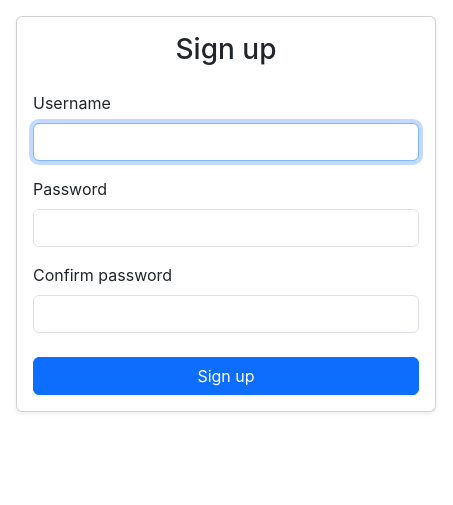
Test case: SignupPage › shows network error for non-409 failures
Type "felipe" into the field labelled "Username" at (226, 142), box [33,123,419,161]
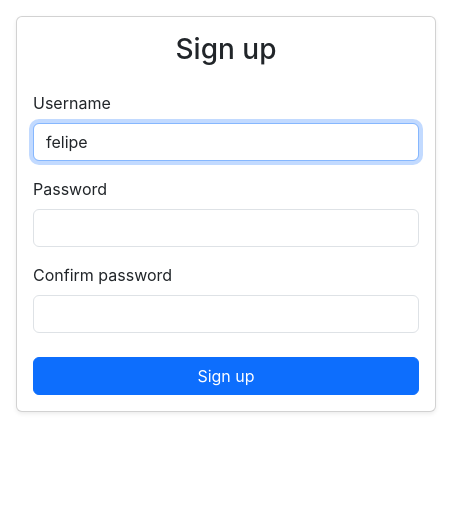
Type "123456" into the password field labelled "Password" at (226, 228), box [33,209,419,247]
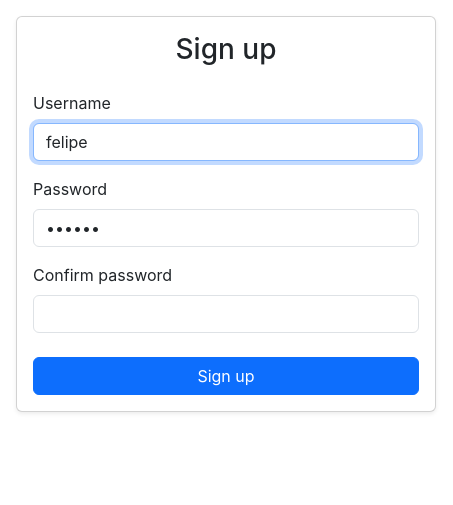
Type "123456" into the password field labelled "Confirm password" at (226, 314), box [33,295,419,333]
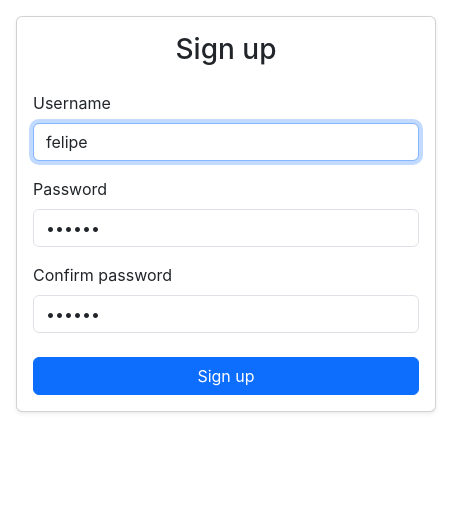
Click the button "Sign up" at (226, 376), box [33,357,419,395]
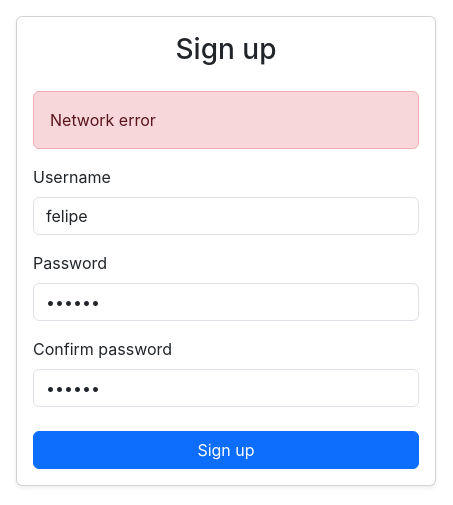
Result: the text "Network error" is shown at [33,91,419,149]
